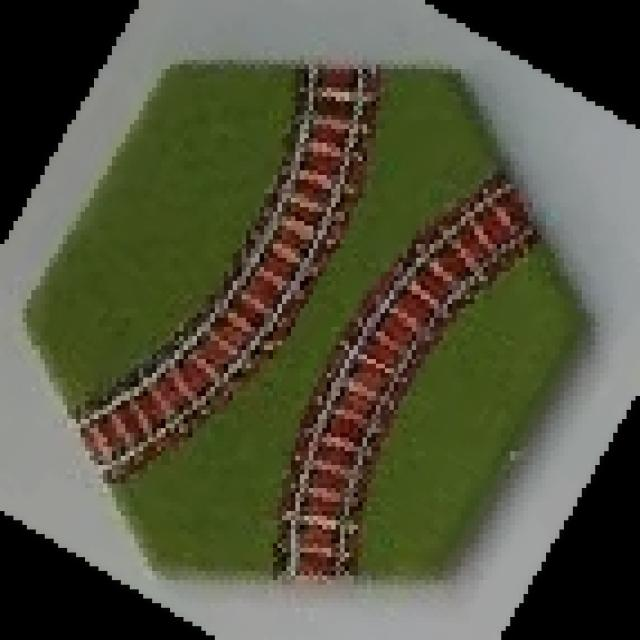6_1: (27, 60, 591, 589)
